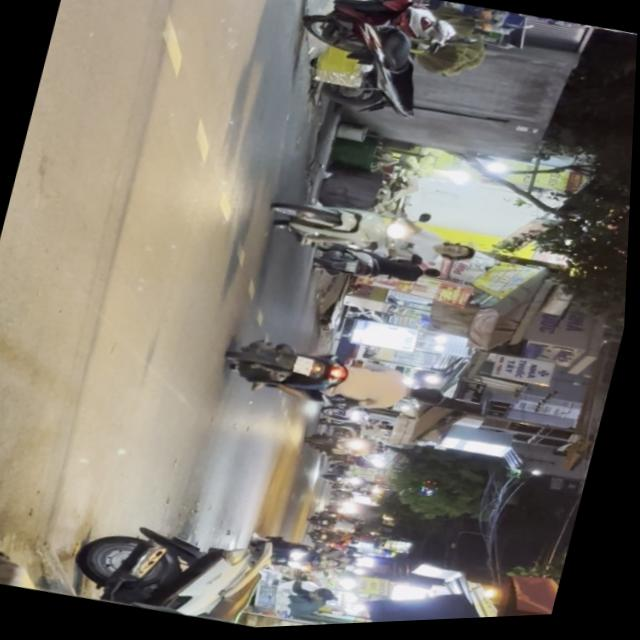licenseplate: (0, 532, 502, 640), (223, 326, 459, 435), (266, 186, 489, 286)
motorcyclist: (442, 240, 482, 267), (412, 384, 452, 410)
nohelmet: (296, 357, 320, 379)
